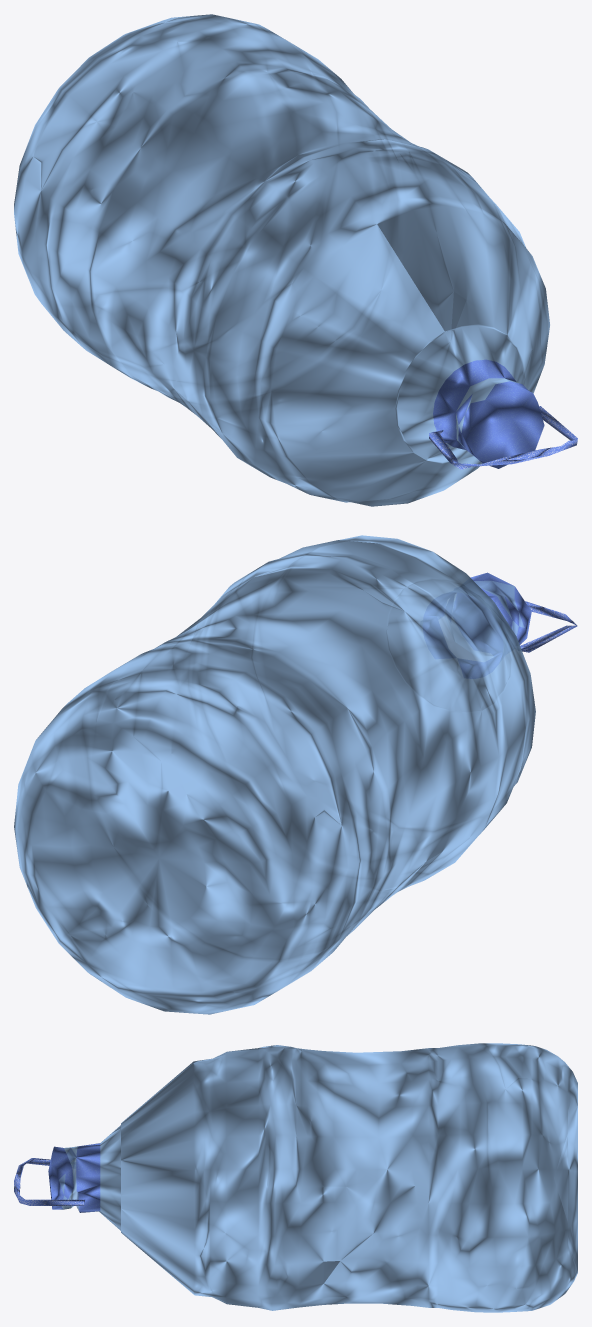
Rendered from model_align.obj.
The picture shows the model from 3 angles, top to bottom: view 1: azimuth 30°, elevation 25°; view 2: azimuth 150°, elevation 25°; view 3: azimuth 270°, elevation 25°; orthographic projection. The views are drawn at different scales.
Size of the model in its own units: 0.1183 by 0.1183 by 0.2469.
